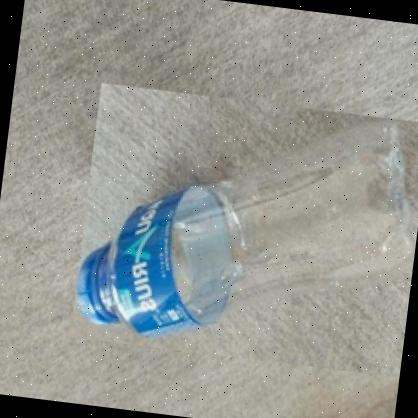bottle: (70, 82, 418, 376)
cap: (60, 244, 127, 330)
label: (97, 170, 228, 352)
